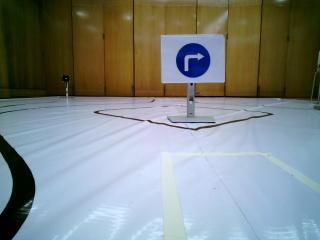right: (165, 43, 221, 87)
